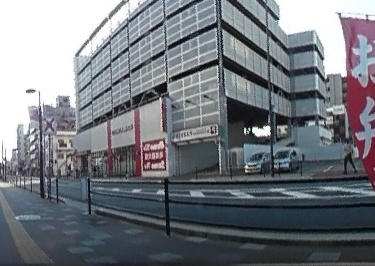person: (342, 138, 358, 174)
